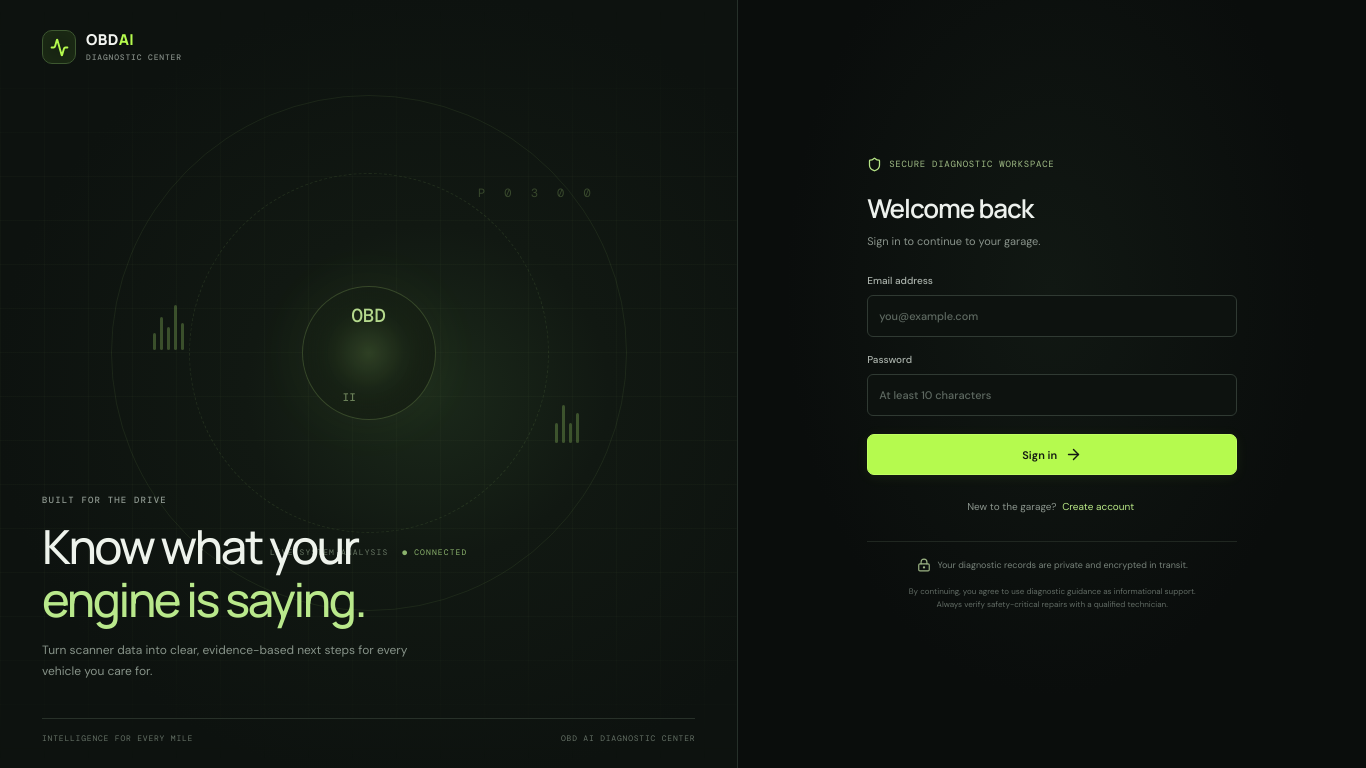
Test: OBD AI workspace journeys › switches between sign-in and account creation without losing the form state contract
This screenshot has width=1366, height=768.
Expected: the heading "Welcome back" is shown, top-left (867, 190), bottom-right (1033, 226)
Click the button "Create account": (1098, 507) top-left (1059, 496), bottom-right (1137, 518)
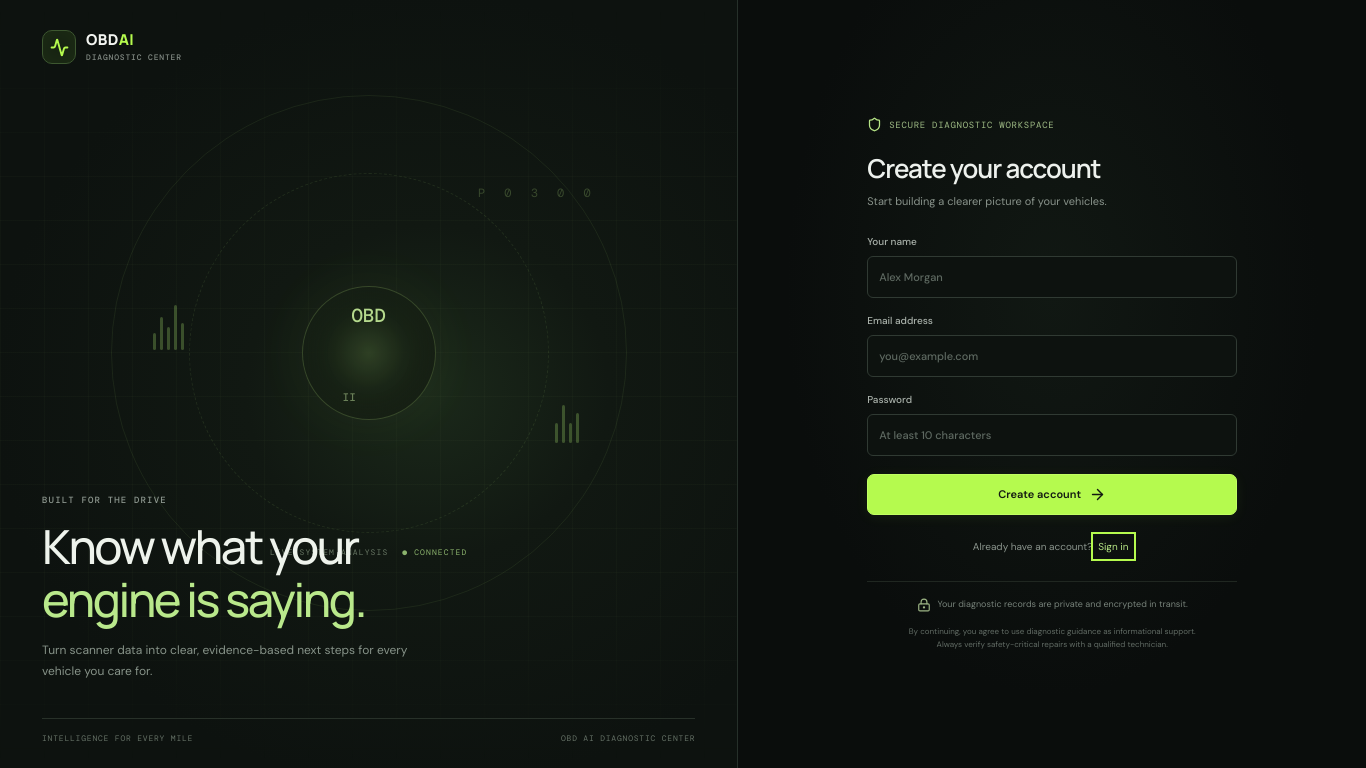
Result: the heading "Create your account" is shown at top-left (867, 150), bottom-right (1101, 186)
Click the button "Sign in": (1113, 546) top-left (1095, 536), bottom-right (1132, 557)
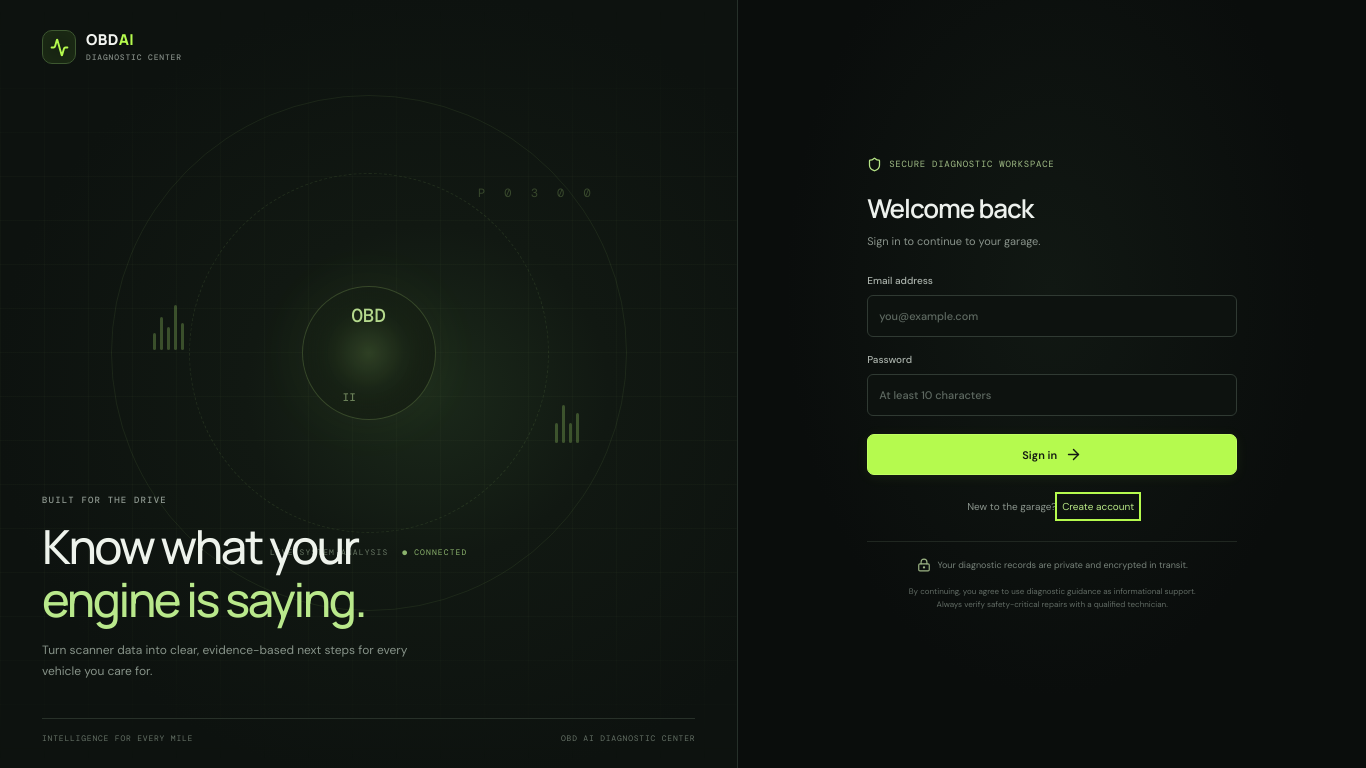
Result: the heading "Welcome back" is shown at top-left (867, 190), bottom-right (1033, 226)
Result: the label labelled "Your name" is gone
